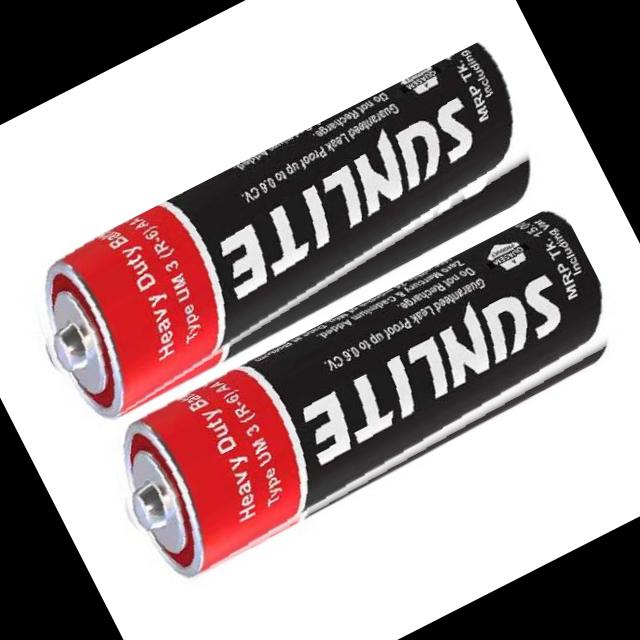Hazard: (4, 37, 564, 437), (83, 202, 638, 598)
